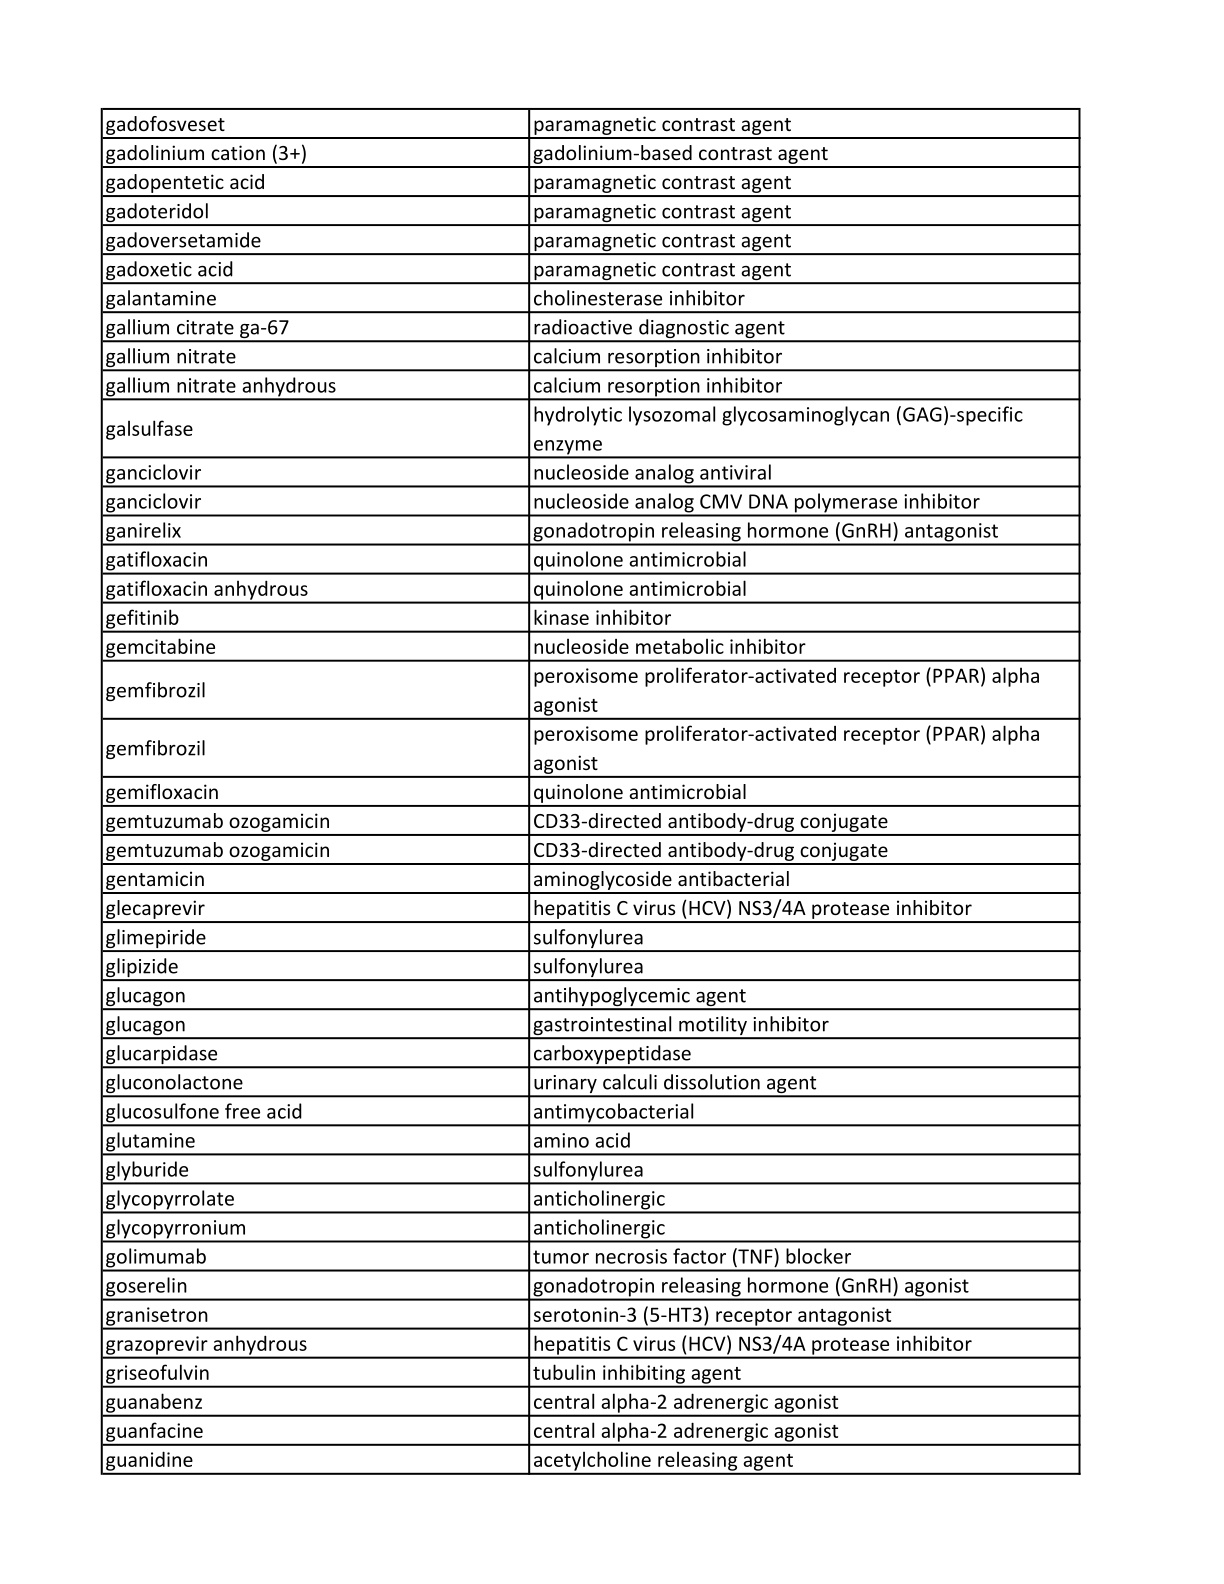full_lined: (100, 107, 1081, 1476)
